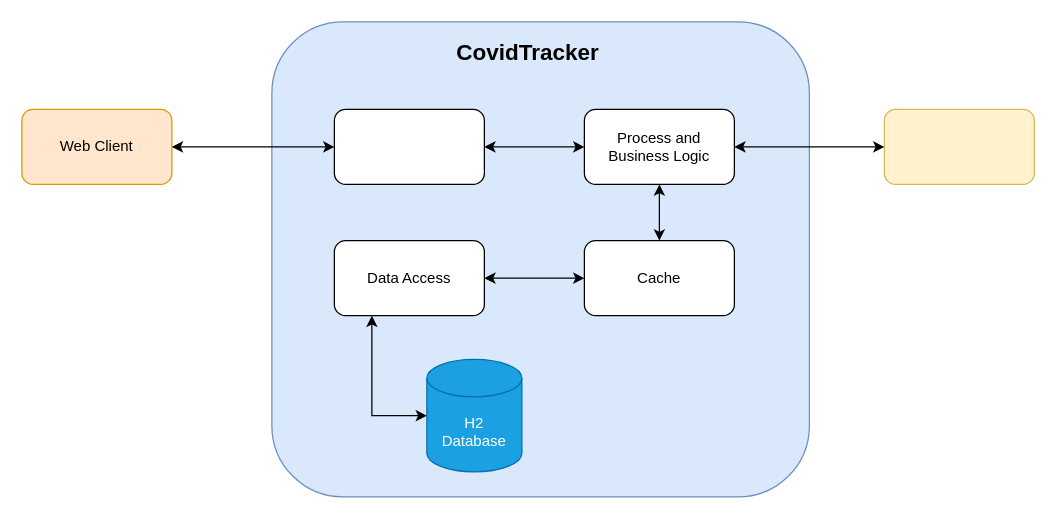
The diagram is 1056 pixels wide and 519 high, and some of its shapes have lost their labels. Each missing label, with the centre of its shape:
"API Layer" goes at (x=408, y=146).
"disease.sh API" goes at (x=958, y=146).
